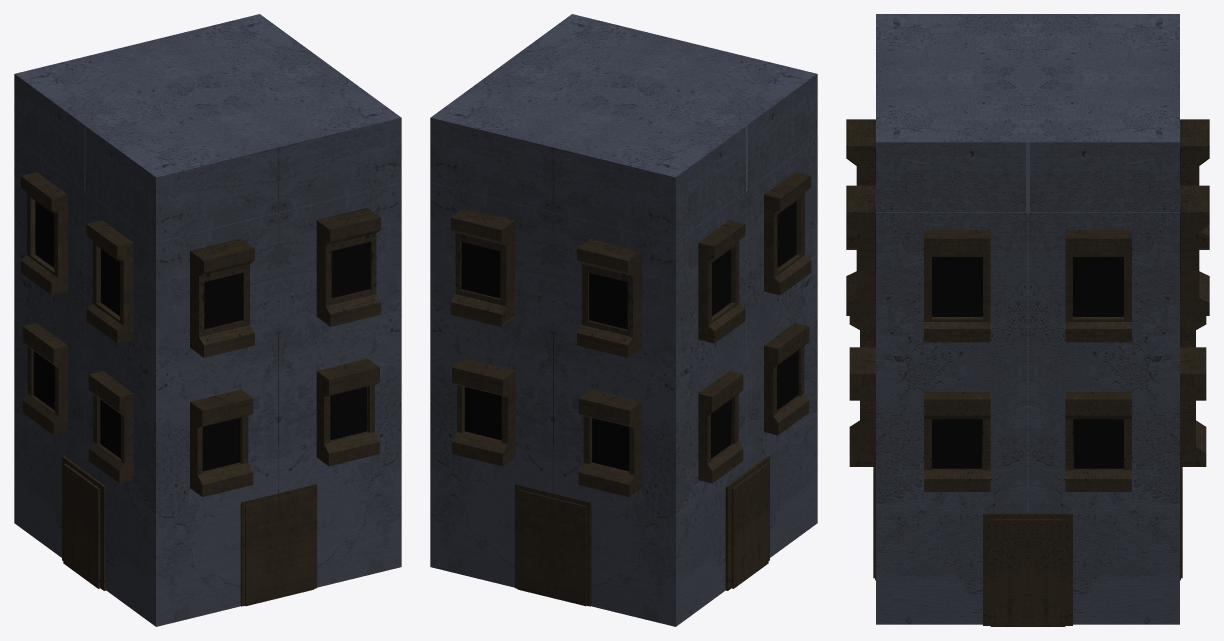
Rendered from Wall 1.fbx.
3 views of the same model, side by side, from view 1: azimuth 30°, elevation 25°; view 2: azimuth 150°, elevation 25°; view 3: azimuth 270°, elevation 25° (orthographic). The views are drawn at different scales.
Parts seen in each view (by area): view 1: Cube; view 2: Cube; view 3: Cube.
Boxes of the visible parts, x1,y1,x2,y2 form: Cube: (14, 14, 401, 626); Cube: (430, 14, 817, 626); Cube: (846, 14, 1209, 626).
Size of the model in its own units: 226 by 350 by 239.
Materials: 1 (1 with a texture image).
